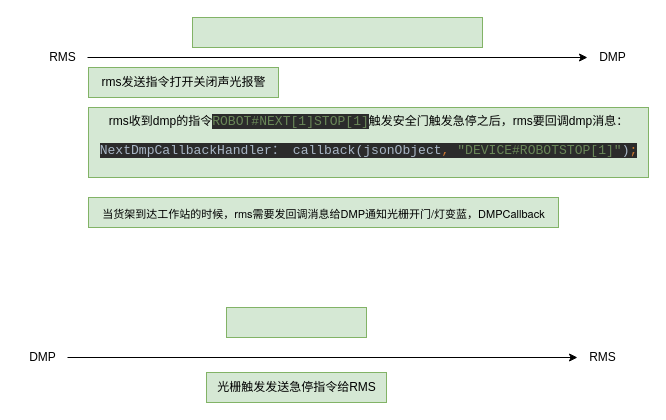
This 666x420 diagram has some shape labels left out. The centre of each missing label's shape, as x and y in pixels:
com.geekplus.venus.device.api.DeviceTaskApi: (x=337, y=32)
RMS的RpcCallbackApi: (x=296, y=322)
